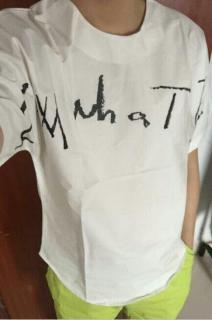short sleeve top: (0, 0, 212, 306)
shorts: (45, 235, 195, 319)
